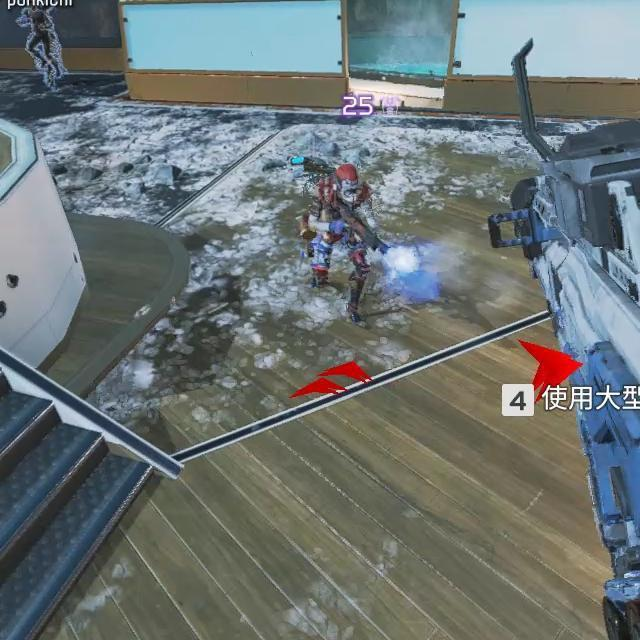avatar: (301, 163, 374, 327), (16, 5, 65, 80)
